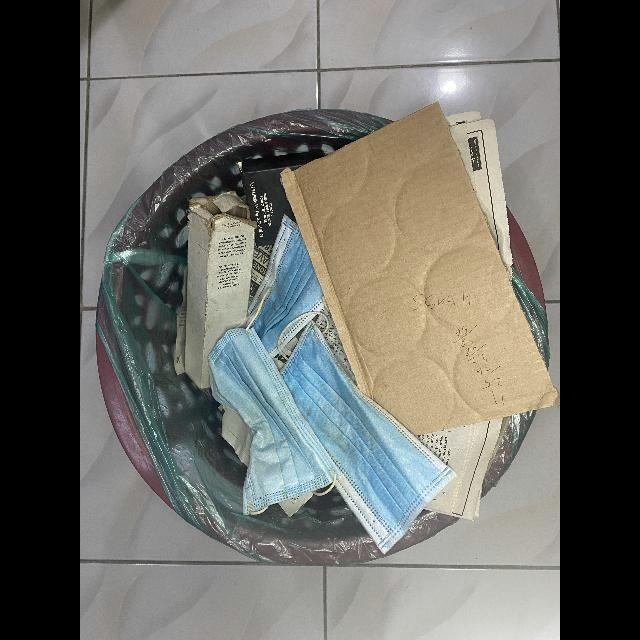cardboard: (280, 104, 560, 440), (185, 192, 257, 390), (236, 150, 326, 247)
paper: (416, 416, 511, 521)
